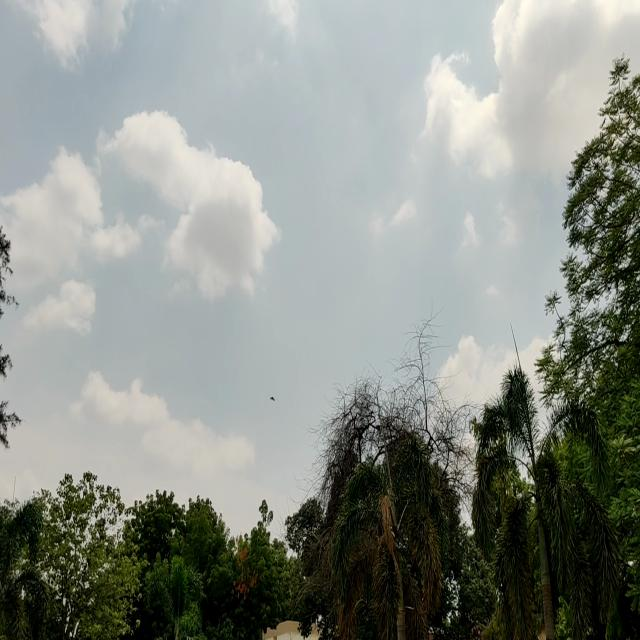drone: (265, 387, 280, 407)
